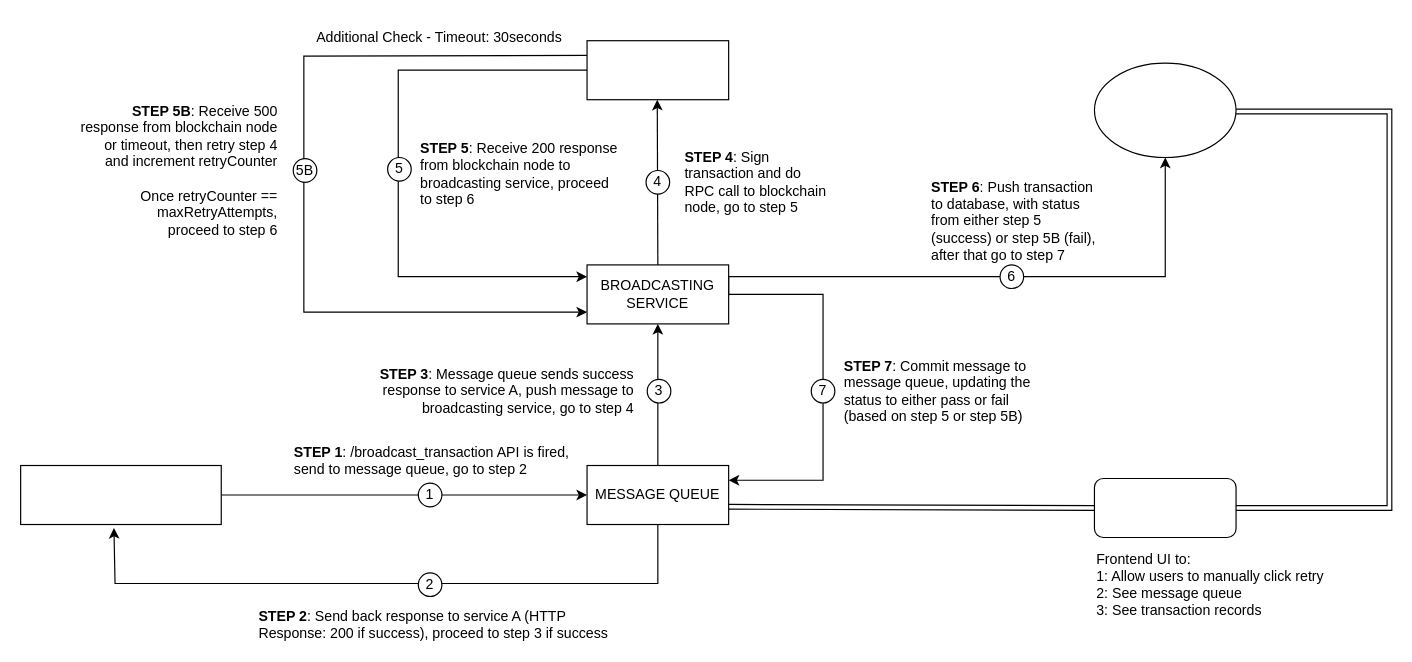
Image size: 1412x662. Some labels were removed from this diagram. Here are the shapes that lost their labels. From the top down, the centre of each, then its label:
(x=657, y=70): BLOCKCHAIN NODE
(x=1164, y=110): TRANSACTION DATABASE
(x=120, y=494): SERVICE A (/broadcast_transaction API)
(x=1164, y=507): FRONTEND UI
